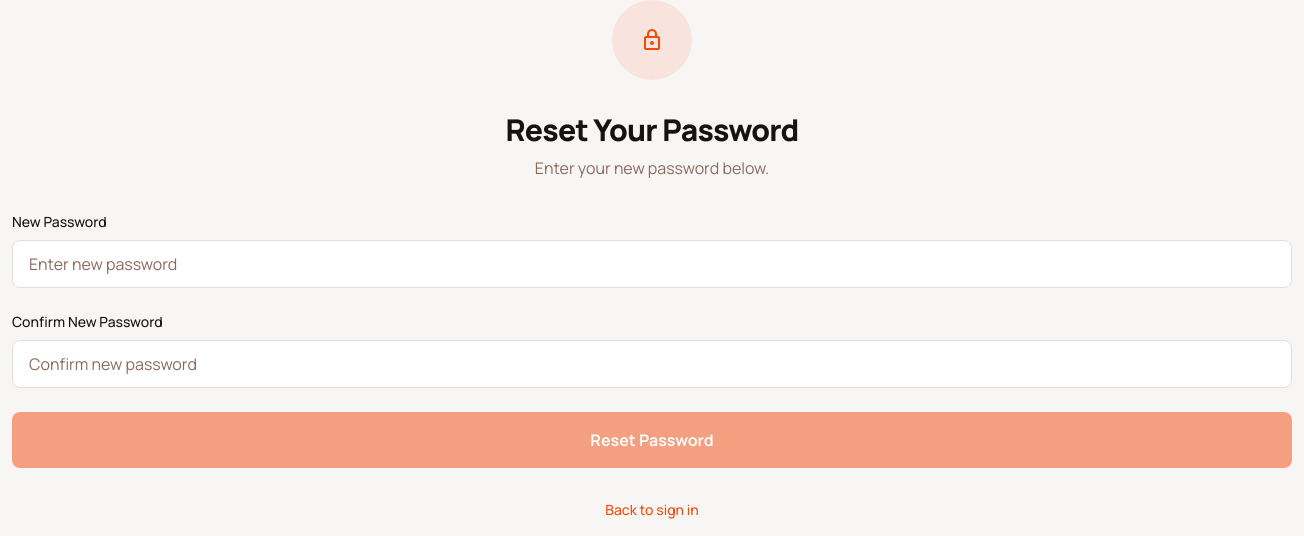
Scenario: ResetPasswordPage (SOUPFIN-186) › sends the token and passwords, then shows success
Type "NewPass123!" into the password field with test id "reset-password-input". click: coordinates (652, 264)
box: [12, 240, 1292, 288]
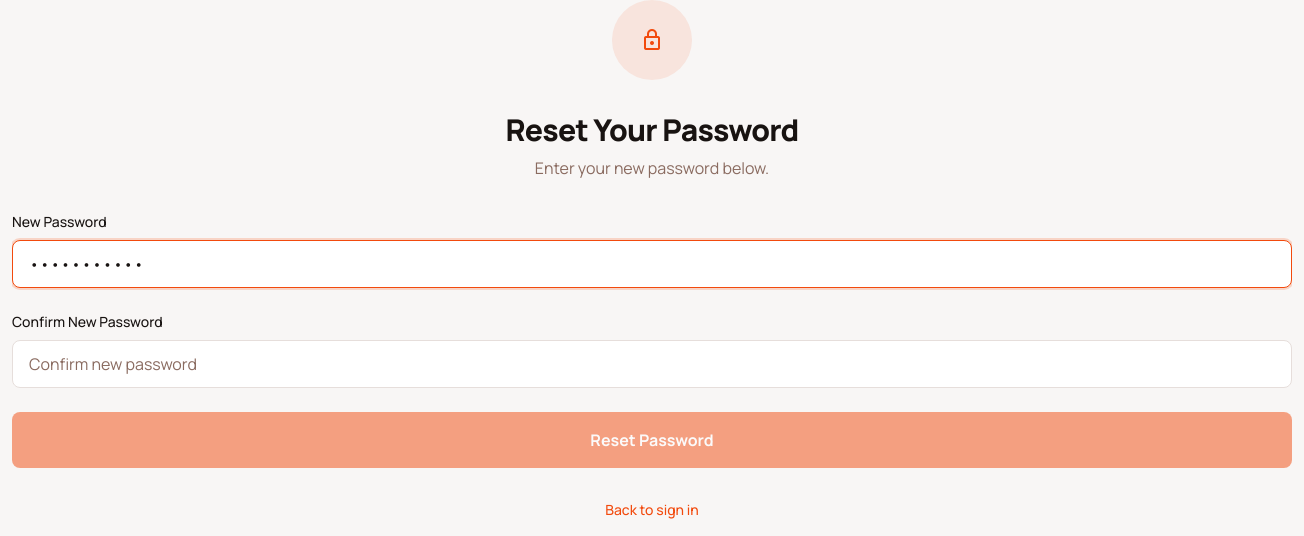
Type "NewPass123!" into the password field with test id "reset-password-confirm-input". click: coordinates (652, 364)
box: [12, 340, 1292, 388]
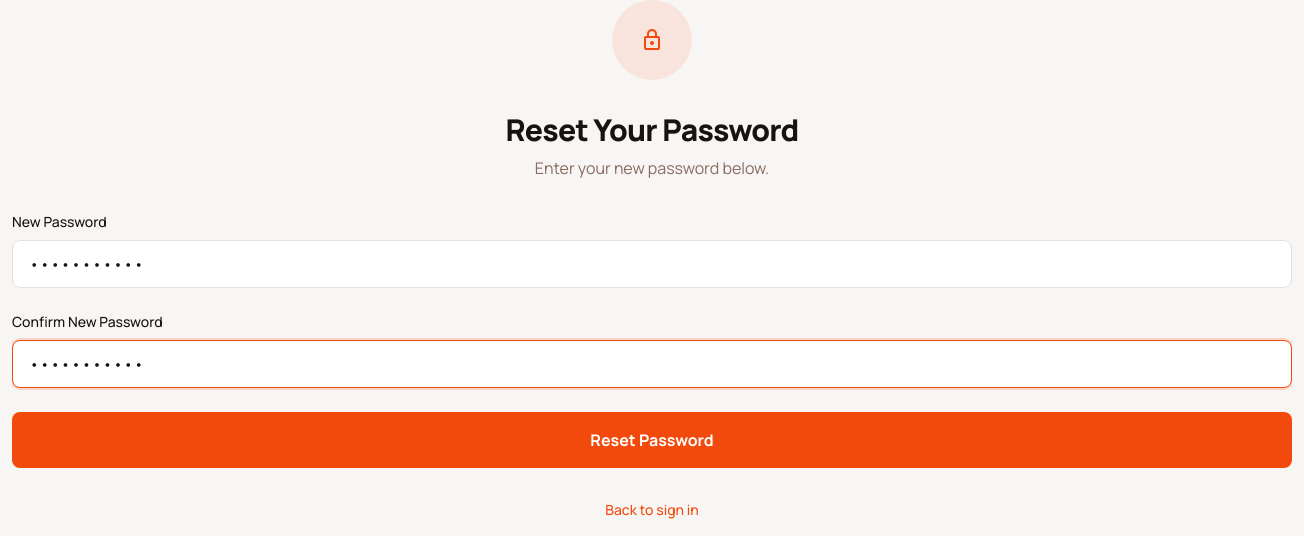
Click the button with test id "reset-password-submit-button". click: coordinates (652, 440)
box: [12, 412, 1292, 468]
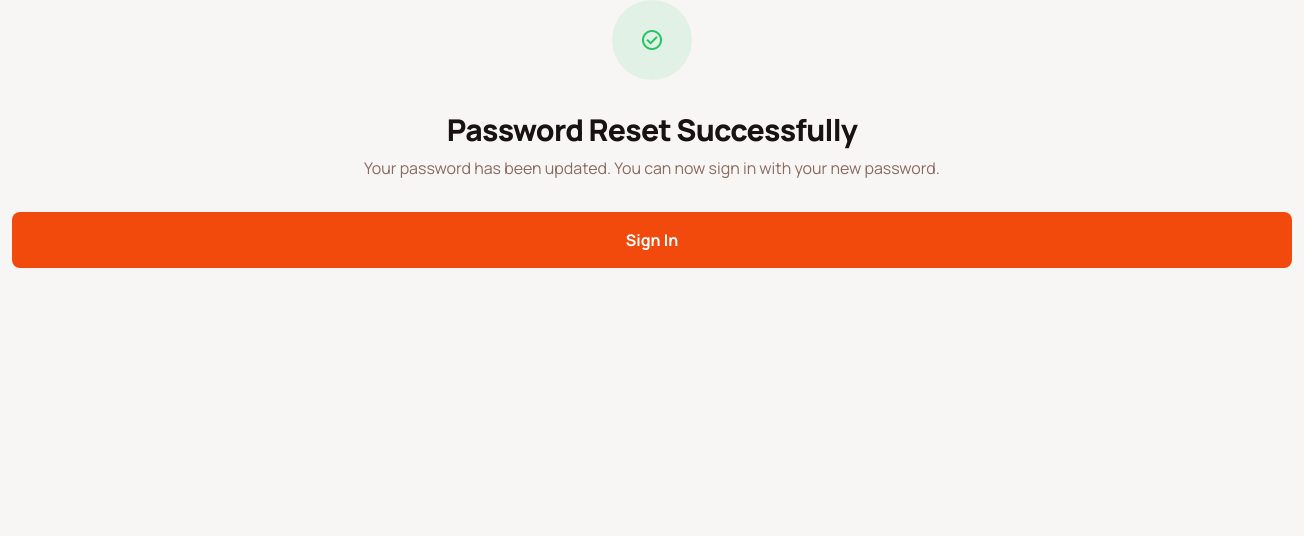
Check: the heading "Password Reset Successfully" is shown, box [447, 109, 857, 150]
